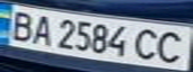2: (51, 16, 78, 51)
4: (106, 24, 133, 57)
5: (72, 19, 93, 53)
8: (90, 21, 112, 55)
A: (27, 12, 57, 46)
B: (3, 9, 39, 43)
C: (151, 28, 190, 65), (130, 26, 163, 62)
